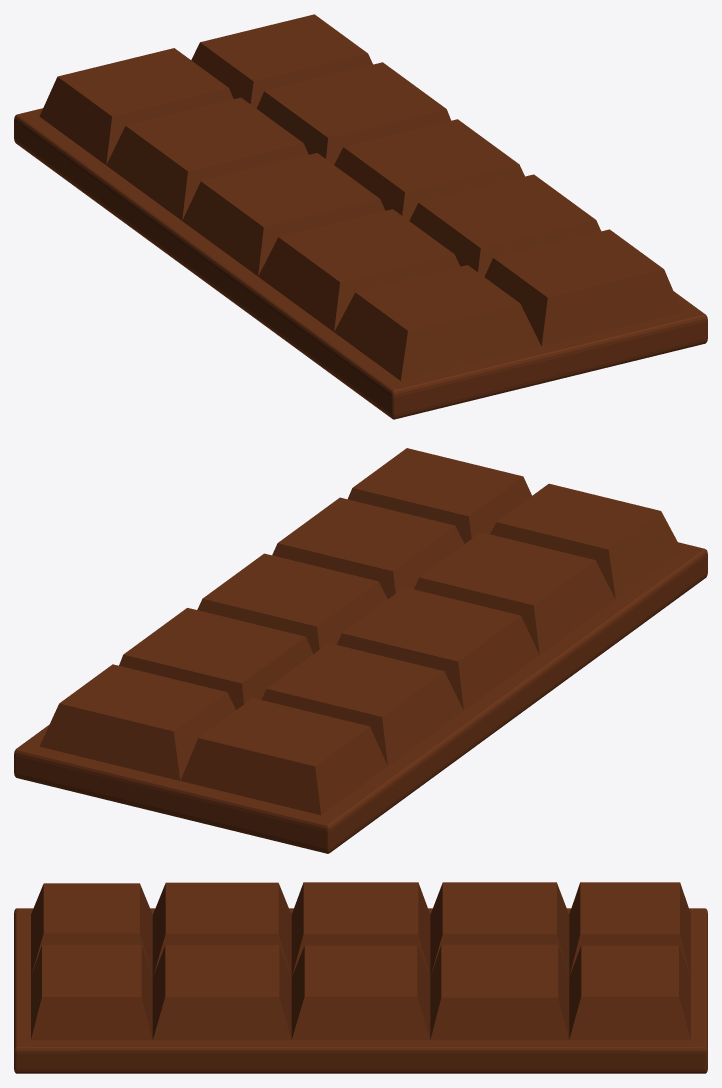
The model's file is CHOCOBAR!!!!.fbx.
The picture shows the model from 3 angles, top to bottom: view 1: azimuth 30°, elevation 25°; view 2: azimuth 150°, elevation 25°; view 3: azimuth 270°, elevation 25°; orthographic projection. The views are drawn at different scales.
Visible parts, largest first — view 1: Cube.005; view 2: Cube.005; view 3: Cube.005.
Part boxes in pixels (x1,y1,x2,y2): Cube.005: [14, 14, 707, 419]; Cube.005: [14, 448, 707, 853]; Cube.005: [14, 882, 707, 1073].
Bounding box in the file's own units: 342 × 73.32 × 712.
